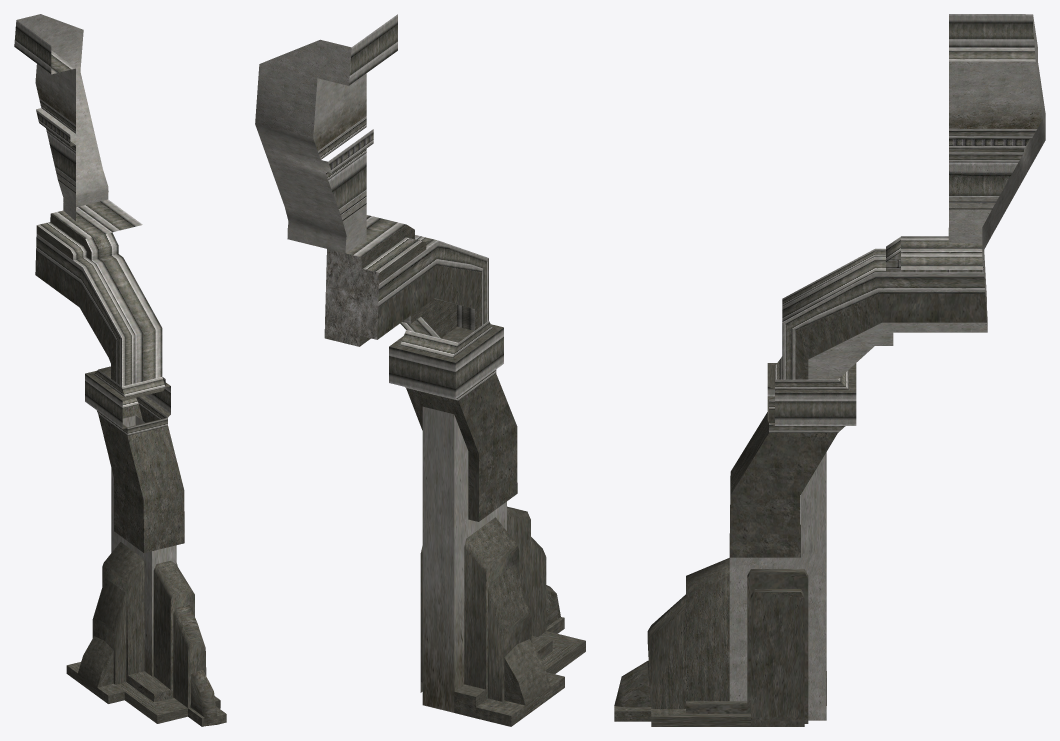
Rendered from DWARF_PALACE_MAINHALL_ENTRENCE01.fbx.
3 views of the same model, side by side, from view 1: azimuth 30°, elevation 25°; view 2: azimuth 150°, elevation 25°; view 3: azimuth 270°, elevation 25° (orthographic). The views are drawn at different scales.
Visible parts, largest first — view 1: DWARF_PALACE_MAINHALL_ENTRENCE01; view 2: DWARF_PALACE_MAINHALL_ENTRENCE01; view 3: DWARF_PALACE_MAINHALL_ENTRENCE01.
Part boxes in pixels (bbox=[...]): DWARF_PALACE_MAINHALL_ENTRENCE01: bbox=[14, 14, 226, 726]; DWARF_PALACE_MAINHALL_ENTRENCE01: bbox=[255, 14, 585, 726]; DWARF_PALACE_MAINHALL_ENTRENCE01: bbox=[614, 14, 1045, 726].
Size of the model in its own units: 39647 by 204914 by 116449.
Materials: 8 (8 with a texture image).
